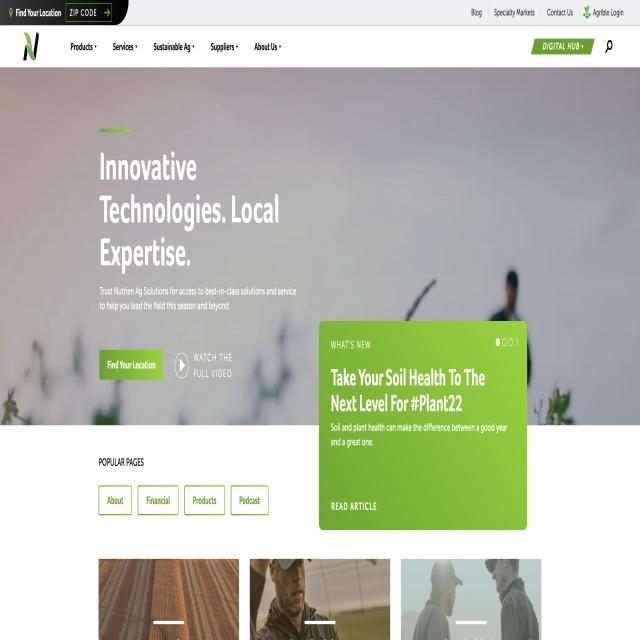Logo: (12, 25, 52, 67)
Navigation: (59, 32, 302, 62)
